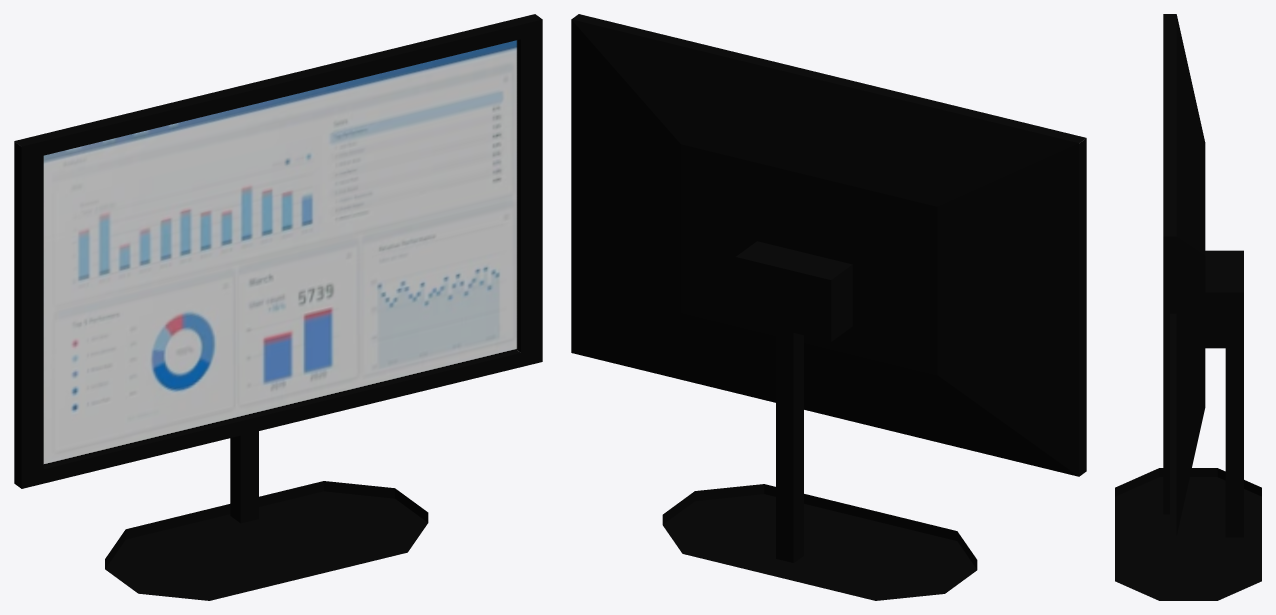
Rendered from komputer.glb.
3 views of the same model, side by side, from view 1: azimuth 30°, elevation 25°; view 2: azimuth 150°, elevation 25°; view 3: azimuth 270°, elevation 25° (orthographic). The views are drawn at different scales.
Visible parts, largest first — view 1: biurko.007; view 2: biurko.007; view 3: biurko.007.
Part boxes in pixels (left/top/right/bottom): biurko.007: left=14, top=14, right=542, bottom=600; biurko.007: left=571, top=14, right=1086, bottom=600; biurko.007: left=1115, top=14, right=1261, bottom=600.
Size of the model in its own units: 1.34 by 1.17 by 0.3745.
Materials: 1 (1 with a texture image).
